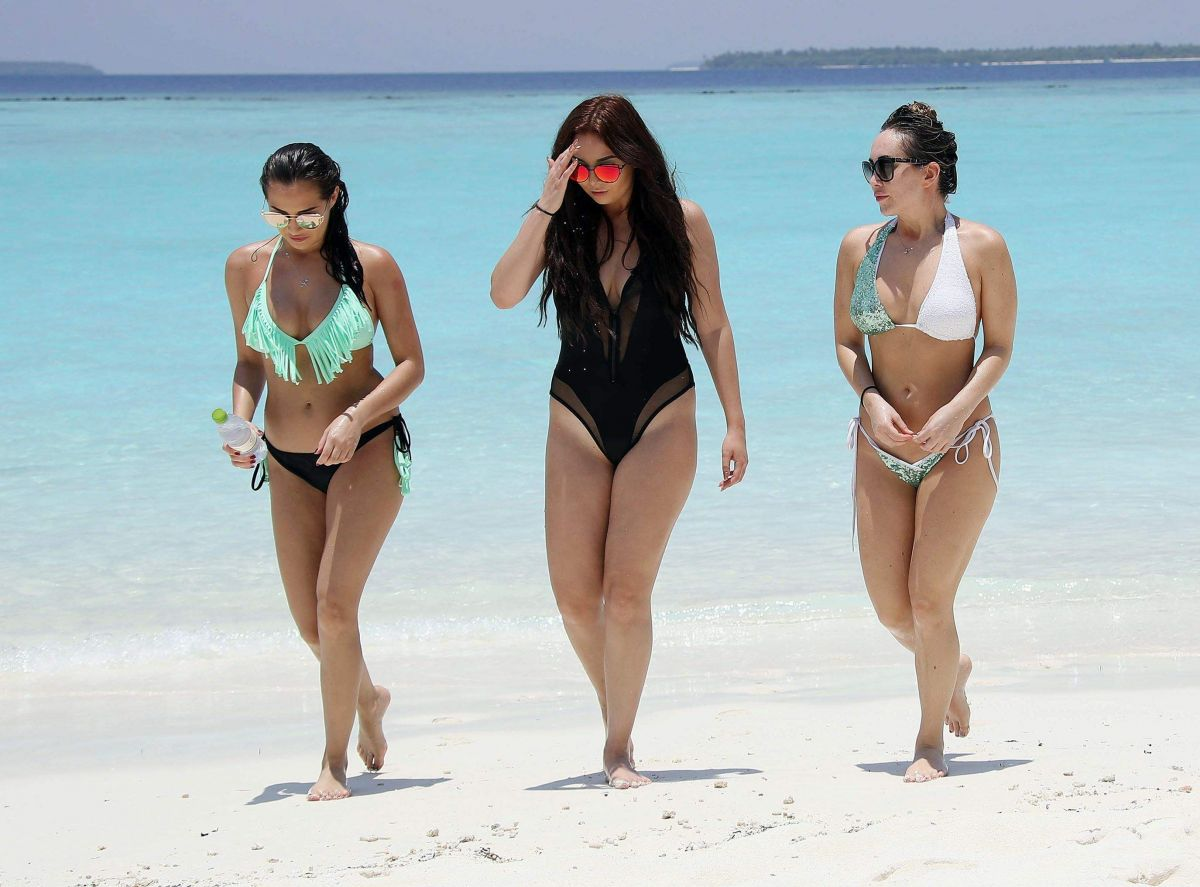Person: (489, 95, 749, 791), (211, 142, 425, 801), (833, 101, 1019, 782)
